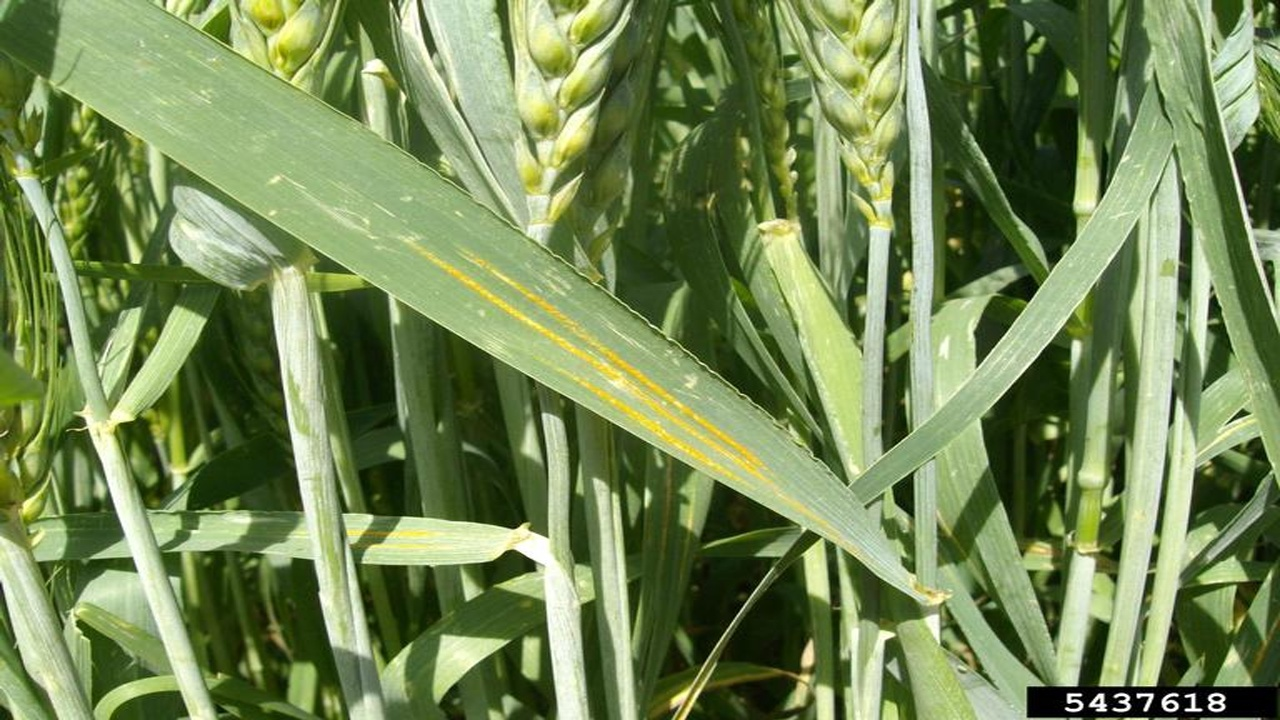stripe_rust: (68, 4, 925, 599), (76, 509, 507, 568)
